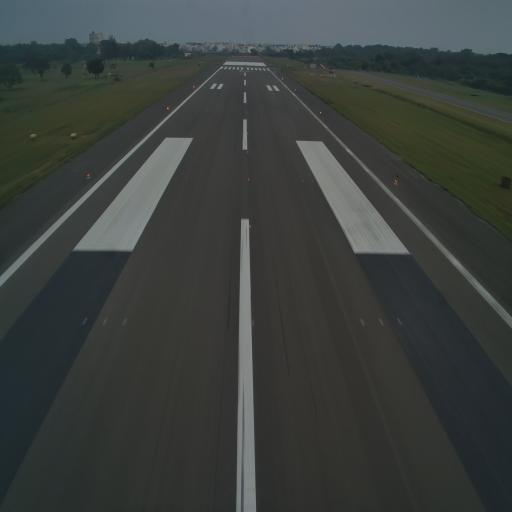off: (378, 315, 386, 330), (357, 315, 365, 328), (101, 313, 108, 327), (395, 316, 403, 328), (82, 314, 89, 327), (122, 314, 129, 327), (174, 176, 178, 182), (301, 178, 304, 186), (185, 176, 188, 182), (311, 178, 314, 184)
on: (84, 171, 92, 180), (251, 318, 256, 328), (248, 222, 252, 232), (246, 174, 250, 184), (393, 179, 397, 185)
